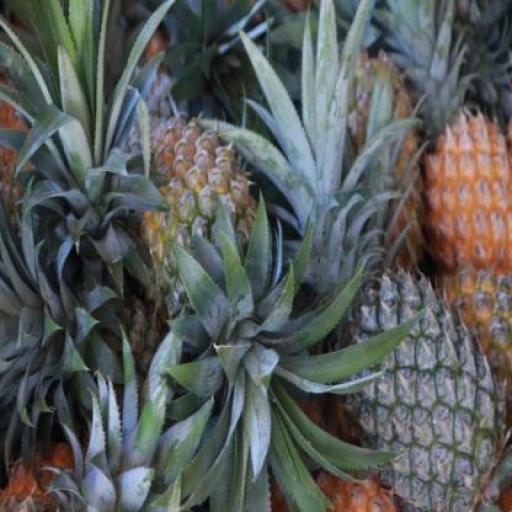------------------------------: (130, 123, 269, 334)
